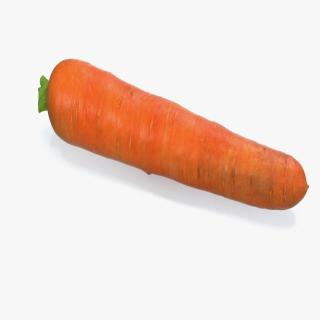carrot: (35, 58, 309, 212)
